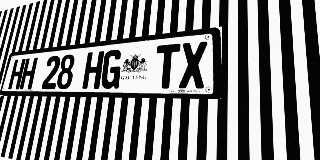2: (41, 55, 61, 89)
8: (55, 54, 76, 89)
G: (100, 49, 123, 89)
H: (82, 51, 104, 89), (19, 57, 38, 89), (8, 59, 26, 89)
T: (153, 43, 181, 89)
X: (179, 41, 207, 88)
